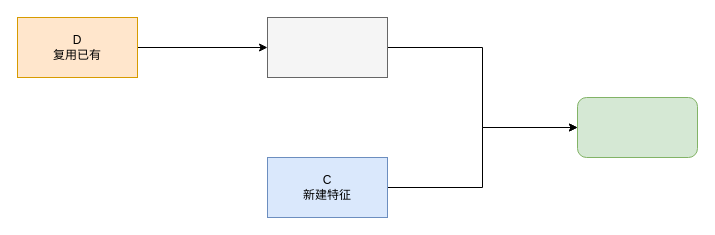
This 715x235 diagram has some shape labels left out. Each missing label, with the box of its shape:
A 目标特征: (576, 96, 698, 158)
B 新建特征: (266, 16, 388, 78)
